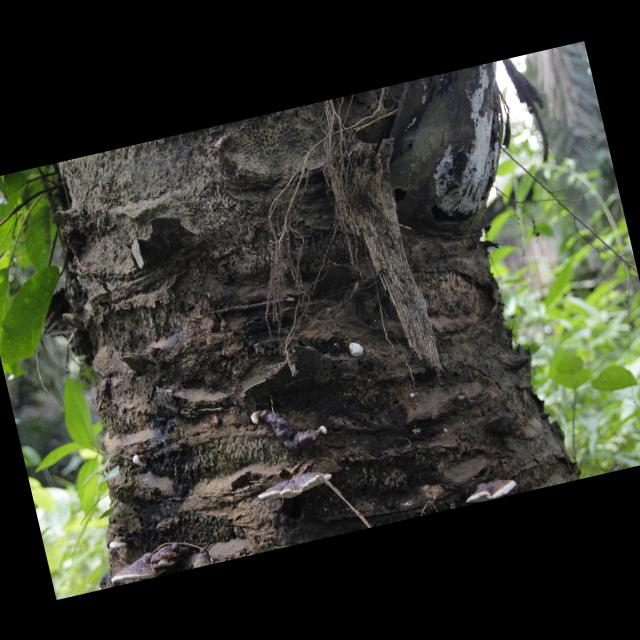ganoderma: (260, 400, 323, 460), (256, 468, 336, 507), (108, 551, 169, 589), (463, 476, 520, 507), (148, 541, 193, 572), (108, 539, 130, 552)
primordium: (132, 454, 151, 471), (348, 341, 365, 359), (250, 411, 262, 426), (319, 425, 329, 437), (411, 393, 417, 399)
